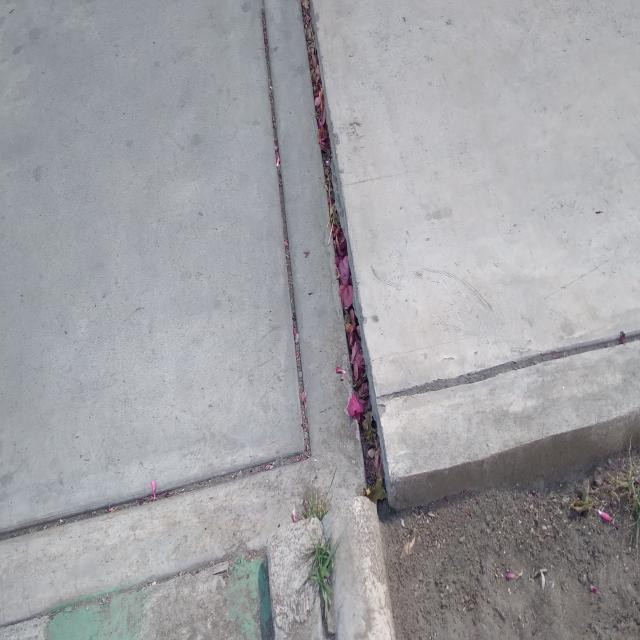hole: (296, 0, 394, 524)
